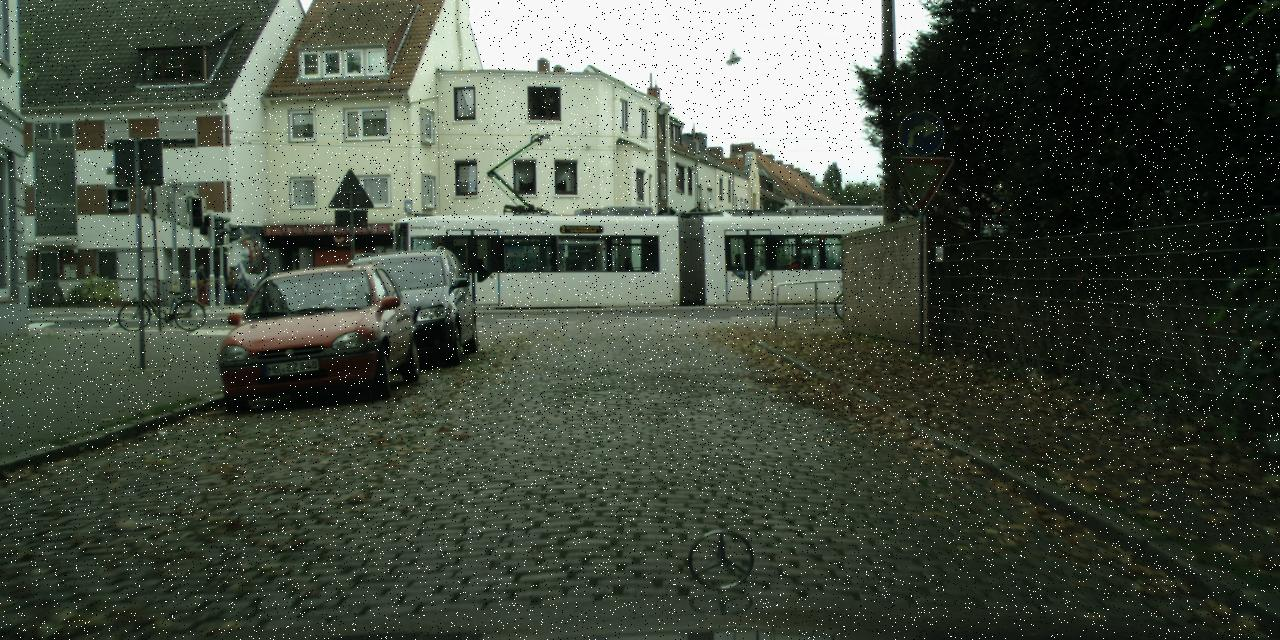ped: (191, 262, 209, 306), (223, 266, 239, 305)
